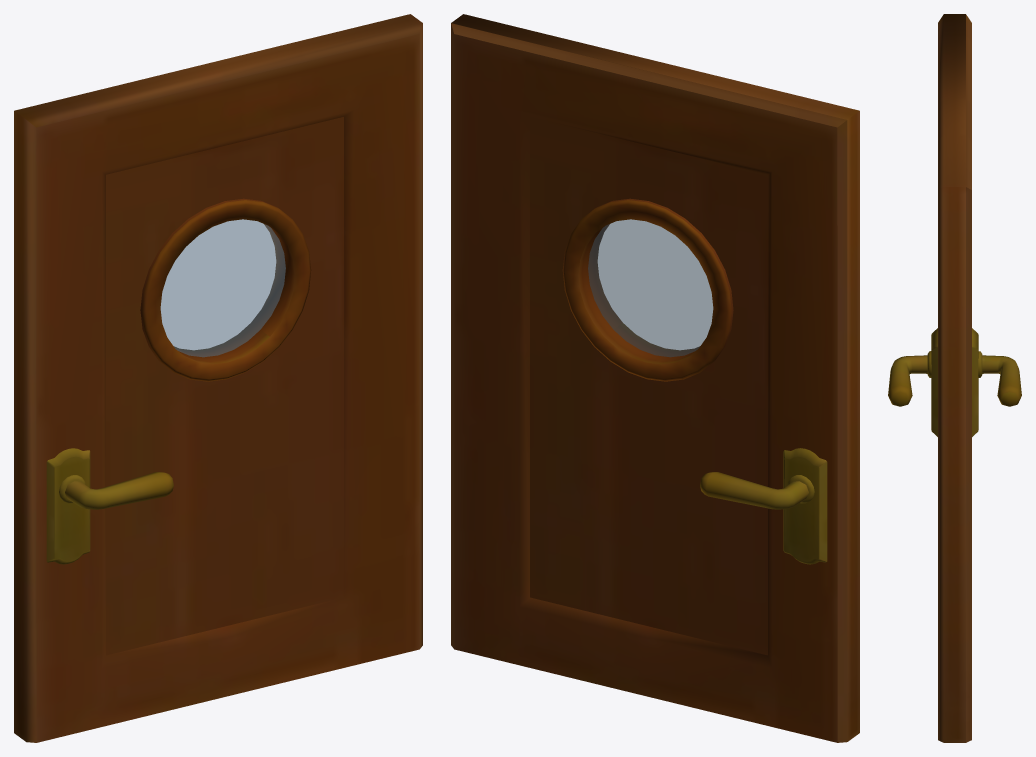
Rendered from door-cercle-window-s.glb.
3 renders of one model, left to right at view 1: azimuth 30°, elevation 25°; view 2: azimuth 150°, elevation 25°; view 3: azimuth 270°, elevation 25°, orthographic. The views are drawn at different scales.
Bounding box in the file's own units: 12 × 18 × 3.93.
2 materials, 1 textured.
